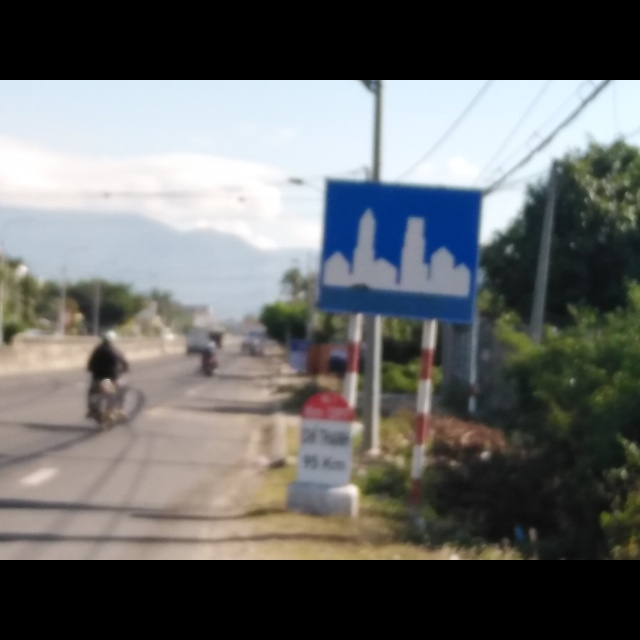Khu đông dân cư: (316, 176, 482, 324)
